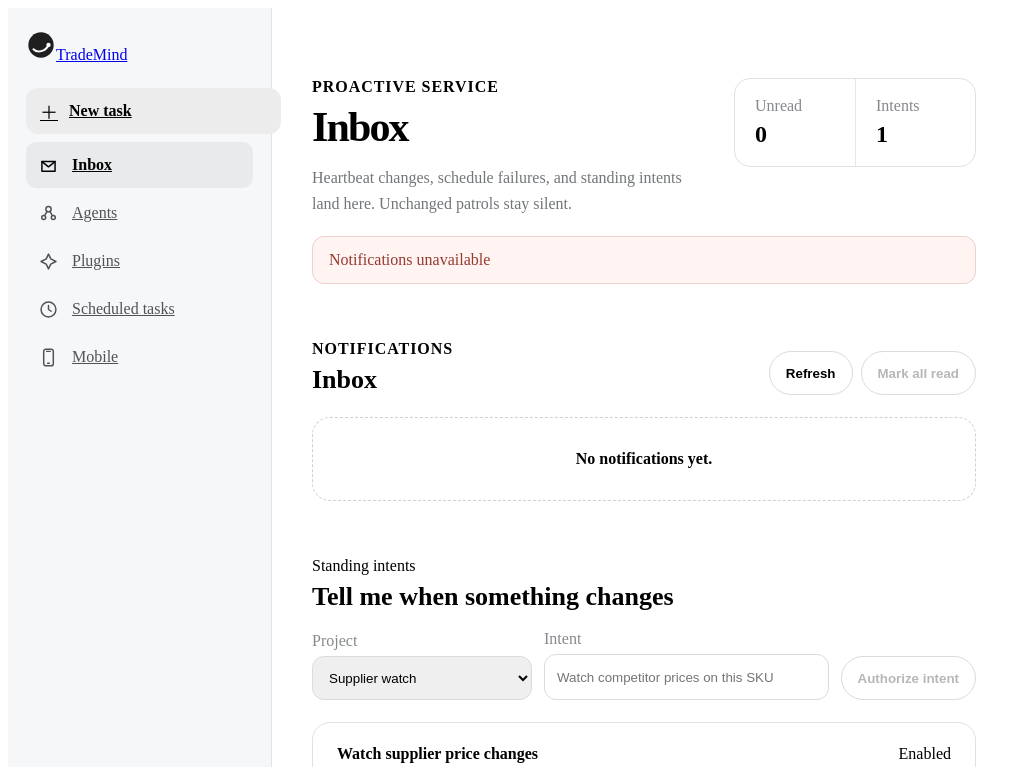
Test: InboxPage refresh › keeps successful resources when another request fails and supports manual refresh
expect the message reads "Notifications unavailable": met, box [329, 251, 490, 268]
expect the text "Watch supplier price changes" is shown: met, box [337, 745, 538, 763]
Click the button "Refresh": (811, 373) [769, 351, 852, 395]
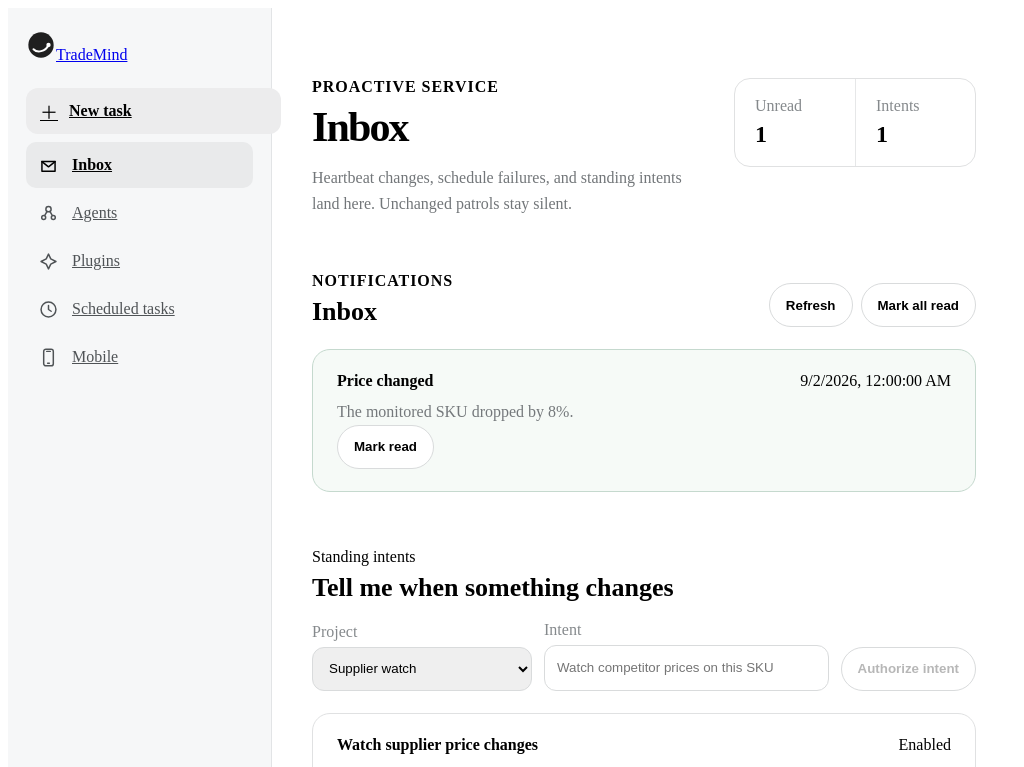
expect the text "Price changed" is shown: met, box [337, 372, 433, 390]
expect the message "Notifications unavailable" is gone: met
